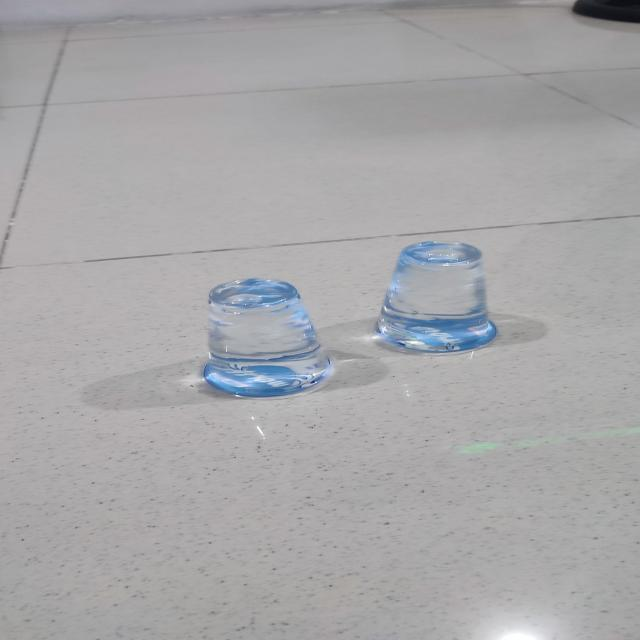air gelas: (190, 269, 328, 407), (369, 233, 499, 357)
